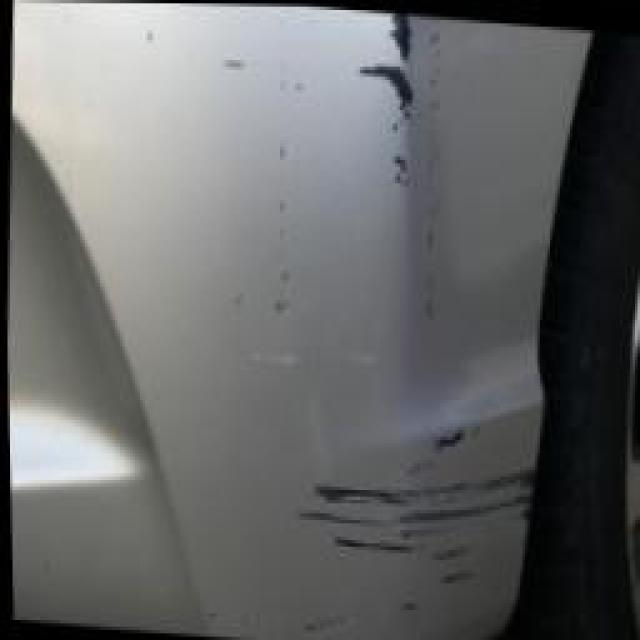Bumper: (135, 3, 532, 640)
